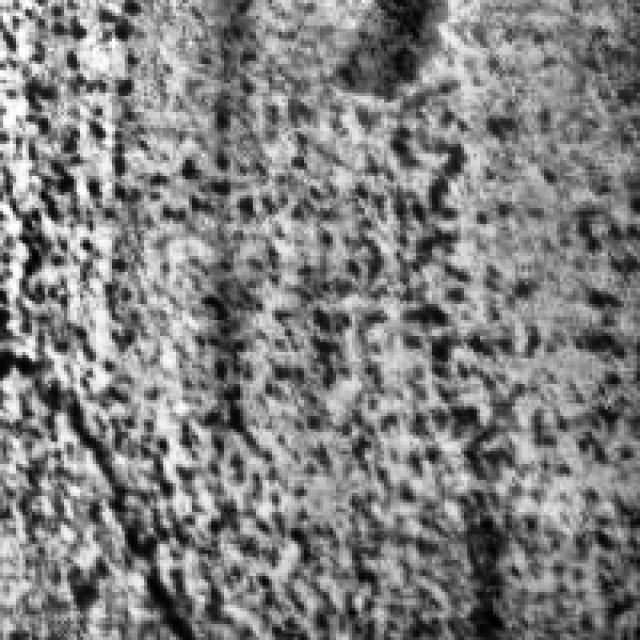Rolled_in_Scale: (35, 0, 634, 608)
